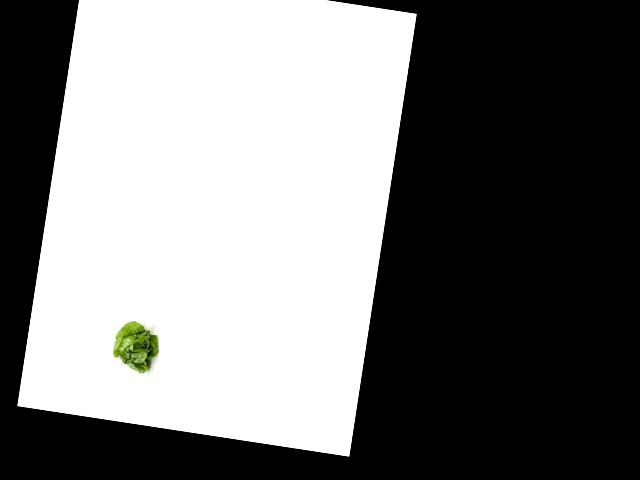lettuce: (106, 317, 165, 377)
